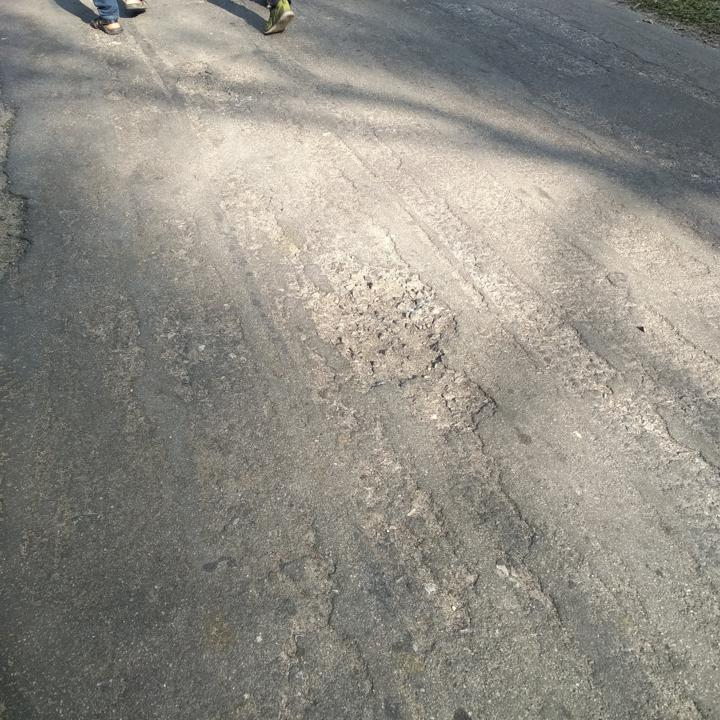pothole: (302, 270, 456, 385), (426, 374, 497, 430)
